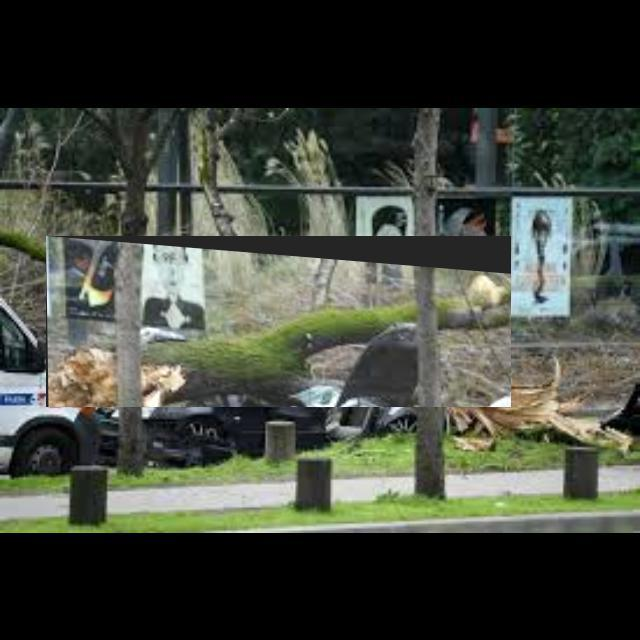fallen_tree: (46, 236, 512, 408)
